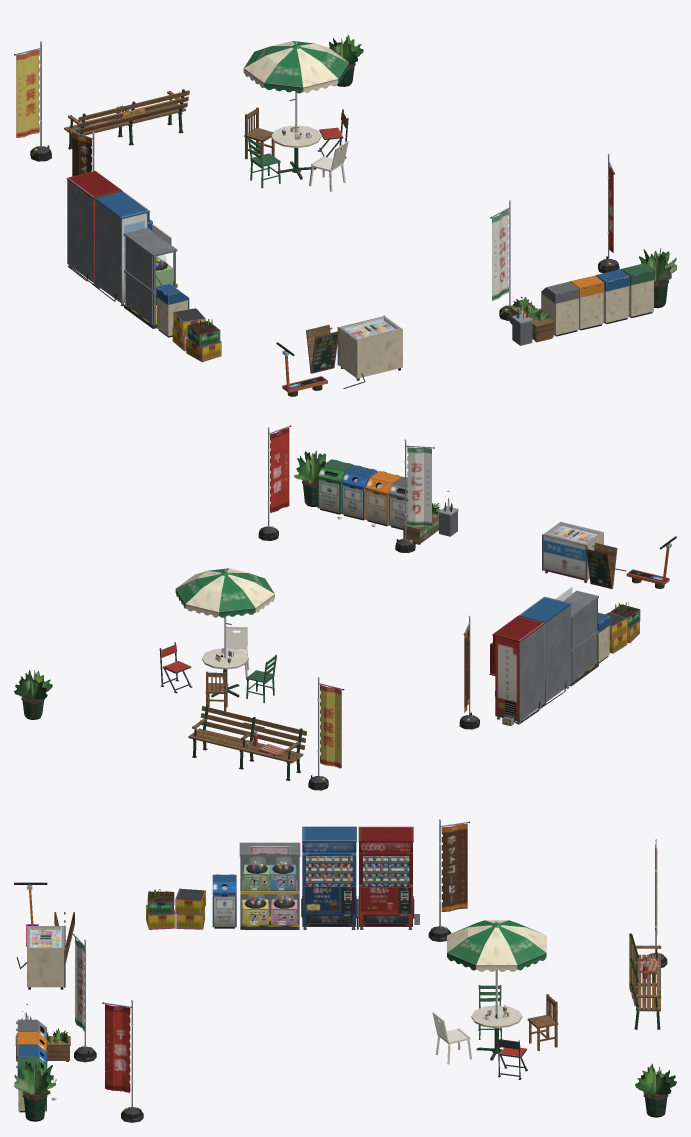
File: PlazaProps.fbx
3 views of the same model, one above another, from view 1: azimuth 30°, elevation 25°; view 2: azimuth 150°, elevation 25°; view 3: azimuth 270°, elevation 25° (orthographic). The views are drawn at different scales.
Visible parts, largest first — view 1: PlazaProps; view 2: PlazaProps; view 3: PlazaProps.
Boxes of the visible parts, x1=… form: PlazaProps: x1=14, y1=35, x2=676, y2=396; PlazaProps: x1=14, y1=425, x2=676, y2=790; PlazaProps: x1=14, y1=819, x2=676, y2=1122.
Size of the model in its own units: 9.18 by 2.69 by 12.28.
